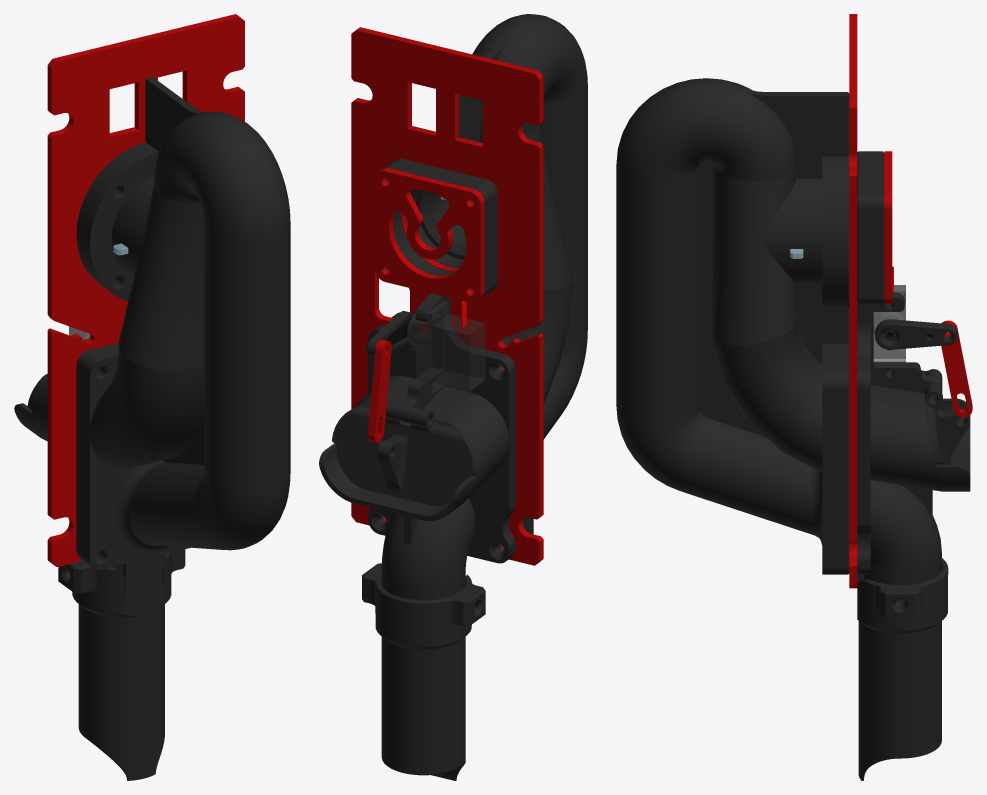
Rendered from vacuum-ball.glb.
3 renders of one model, left to right at view 1: azimuth 30°, elevation 25°; view 2: azimuth 150°, elevation 25°; view 3: azimuth 270°, elevation 25°, orthographic. The views are drawn at different scales.
Visible parts, largest first — view 1: TubeInterne, CarterVac, TubeEntree, TubeExterne; view 2: CarterVac, TubeExterne, TubeInterne, TubeEntree, Trappe, CacheTurbine, BodyServo90S, SpacerTurbine, ArmLink, BigServoArm; view 3: TubeInterne, TubeExterne, TubeEntree, CarterVac, SpacerTurbine, Trappe, BigServoArm, ArmLink, CacheTurbine, BodyServo90S.
Boxes of the visible parts, x1,y1,x2,y2 form: TubeInterne: (76, 77, 290, 569); CarterVac: (47, 14, 244, 566); TubeEntree: (58, 549, 185, 780); TubeExterne: (14, 339, 162, 593); CarterVac: (351, 27, 543, 565); TubeExterne: (319, 293, 515, 600); TubeInterne: (391, 14, 587, 534); TubeEntree: (362, 563, 485, 780); Trappe: (332, 400, 477, 505); CacheTurbine: (375, 168, 484, 302); BodyServo90S: (407, 301, 485, 394); SpacerTurbine: (383, 158, 497, 296); ArmLink: (367, 339, 391, 442); BigServoArm: (366, 311, 415, 357); TubeInterne: (616, 78, 849, 574); TubeExterne: (857, 292, 970, 601); TubeEntree: (857, 558, 948, 780); CarterVac: (849, 14, 857, 588); SpacerTurbine: (857, 151, 884, 304); Trappe: (925, 369, 970, 464); BigServoArm: (875, 319, 957, 349); ArmLink: (941, 320, 972, 417); CacheTurbine: (884, 151, 892, 304); BodyServo90S: (873, 285, 905, 371).
Size of the model in its own units: 0.08 by 0.294 by 0.1323.
